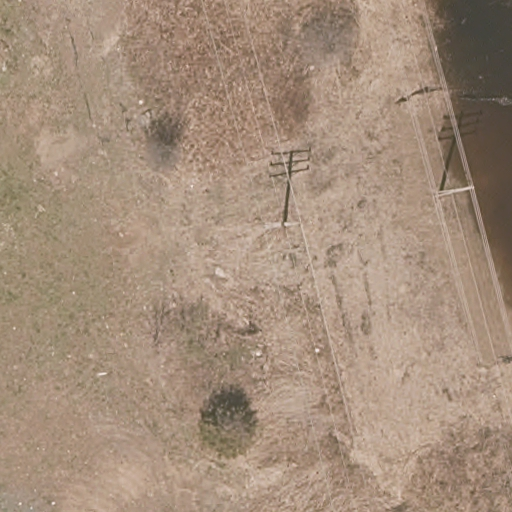DT: (431, 183, 473, 198), (264, 216, 300, 233)
